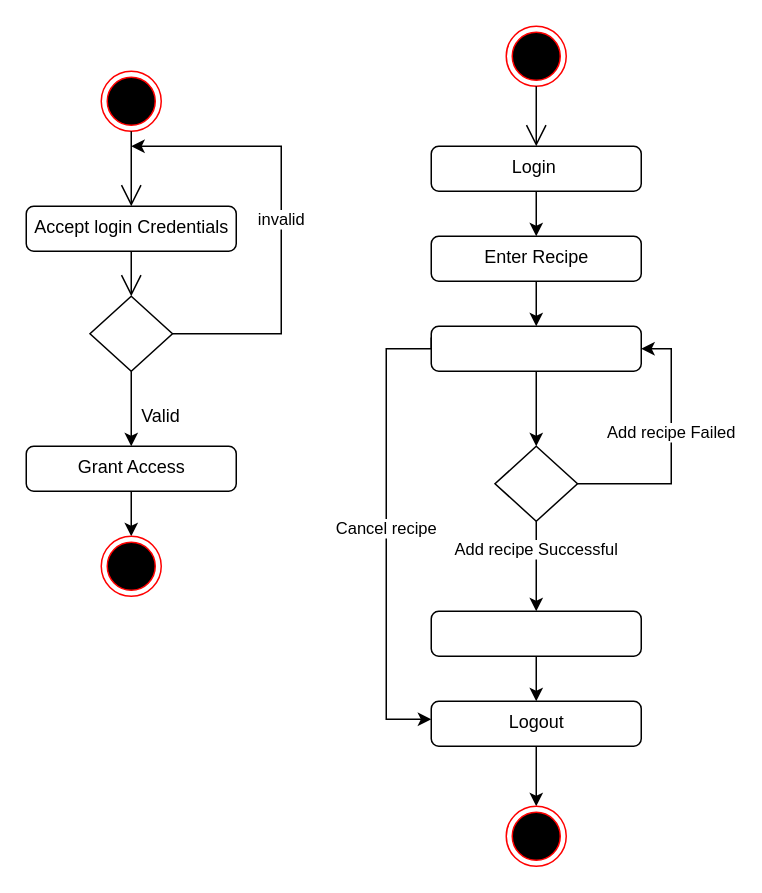
Some shapes in this 762 by 893 pixel diagram are drawn without their labels. The centre of each missing label's shape, as x and y in pixels:
Display all recipe: (x=535, y=633)
Save to Table: (x=535, y=348)
